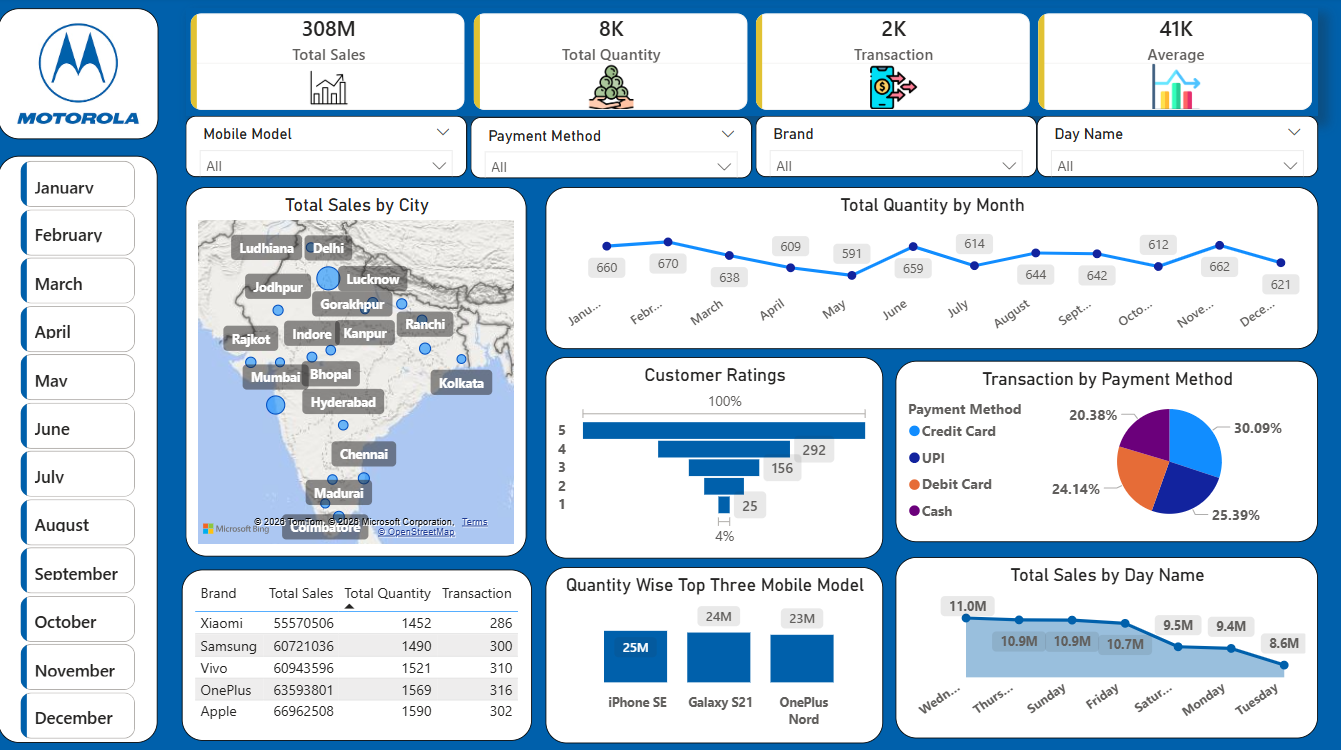

This screenshot's page, from the dashboard's own definition file:
{"tool":"powerbi","page":{"name":"Page 1","canvas":[1280,720],"ordinal":0},"visuals":[{"type":"shape","box":[0,11.2,152.5,125],"z":0},{"type":"image","box":[16.7,21.4,119,103.6],"z":1000},{"type":"shape","box":[0,151.2,152.4,559.5],"z":2000},{"type":"advancedSlicerVisual","fields":{"Values":["Sheet1.DATE.Variation.Date Hierarchy.Month"]},"box":[16.7,151.2,119,569.1],"z":3000},{"type":"cardVisual","fields":{"Data":["Sales_data.Total Sales","Sales_data.Total Quantity","Sales_data.Transaction","Sales_data.Average"]},"box":[178.6,10.7,1078.6,102.4],"z":4000},{"type":"map","fields":{"Category":["Sales_data.City"],"Size":["Sales_data.Total Sales"]},"box":[178.6,181,325,352.4],"z":5000},{"type":"lineChart","fields":{"Category":["Sales_data.DATE.Variation.Date Hierarchy.Month","Sales_data.DATE.Variation.Date Hierarchy.Day"],"Y":["Sales_data.Total Quantity"]},"box":[521.4,181,735.7,154.8],"z":6000},{"type":"funnel","title":"Customer Ratings","fields":{"Category":["Sales_data.Customer Ratings"],"Y":["Sum(Sales_data.Customer Ratings)"]},"box":[521.4,342.9,321.4,191.7],"z":7000},{"type":"pieChart","fields":{"Category":["Sales_data.Payment Method"],"Y":["Sales_data.Transaction"]},"box":[854.8,346.4,402.4,172.6],"z":8000},{"type":"clusteredColumnChart","title":"Quantity Wise Top Three Mobile Model","fields":{"Category":["Sales_data.Mobile Model"],"Y":["Sales_data.Total Sales"]},"box":[521.4,542.9,321.4,167.9],"z":9000},{"type":"areaChart","fields":{"Category":["Sales_data.Day Name"],"Y":["Sales_data.Total Sales"]},"box":[854.8,533.3,402.4,172.6],"z":10000},{"type":"tableEx","fields":{"Values":["Sales_data.Brand","Sales_data.Total Sales","Sales_data.Total Quantity","Sales_data.Transaction"]},"box":[175,545.2,333.3,163.1],"z":11000},{"type":"slicer","fields":{"Values":["Sales_data.Mobile Model"]},"box":[178.6,113.1,267.9,58.3],"z":12000},{"type":"slicer","fields":{"Values":["Sales_data.Payment Method"]},"box":[450,114.3,267.9,58.3],"z":13000},{"type":"slicer","fields":{"Values":["Sales_data.Brand"]},"box":[721.4,113.1,267.9,58.3],"z":14000},{"type":"slicer","fields":{"Values":["Sales_data.Day Name"]},"box":[989.3,113.1,267.9,58.3],"z":15000}]}

Visuals, with their boxes in screenshot pixels (x1, y1, x2, y2), scaled from the page's 1280x720 canvas onto the 1341x750 screenshot:
shape: {"left": 0, "top": 12, "right": 160, "bottom": 142}
image: {"left": 17, "top": 22, "right": 142, "bottom": 130}
shape: {"left": 0, "top": 158, "right": 160, "bottom": 740}
advancedSlicerVisual - Sheet1.DATE.Variation.Date Hierarchy.Month: {"left": 17, "top": 158, "right": 142, "bottom": 749}
cardVisual - Sales_data.Total Sales x Sales_data.Total Quantity: {"left": 187, "top": 11, "right": 1317, "bottom": 118}
map - Sales_data.City x Sales_data.Total Sales: {"left": 187, "top": 189, "right": 528, "bottom": 556}
lineChart - Sales_data.DATE.Variation.Date Hierarchy.Month x Sales_data.DATE.Variation.Date Hierarchy.Day: {"left": 546, "top": 189, "right": 1317, "bottom": 350}
"Customer Ratings" funnel: {"left": 546, "top": 357, "right": 883, "bottom": 557}
pieChart - Sales_data.Payment Method x Sales_data.Transaction: {"left": 896, "top": 361, "right": 1317, "bottom": 541}
"Quantity Wise Top Three Mobile Model" clusteredColumnChart: {"left": 546, "top": 566, "right": 883, "bottom": 740}
areaChart - Sales_data.Day Name x Sales_data.Total Sales: {"left": 896, "top": 556, "right": 1317, "bottom": 735}
tableEx - Sales_data.Brand x Sales_data.Total Sales: {"left": 183, "top": 568, "right": 533, "bottom": 738}
slicer - Sales_data.Mobile Model: {"left": 187, "top": 118, "right": 468, "bottom": 179}
slicer - Sales_data.Payment Method: {"left": 471, "top": 119, "right": 752, "bottom": 180}
slicer - Sales_data.Brand: {"left": 756, "top": 118, "right": 1036, "bottom": 179}
slicer - Sales_data.Day Name: {"left": 1036, "top": 118, "right": 1317, "bottom": 179}
